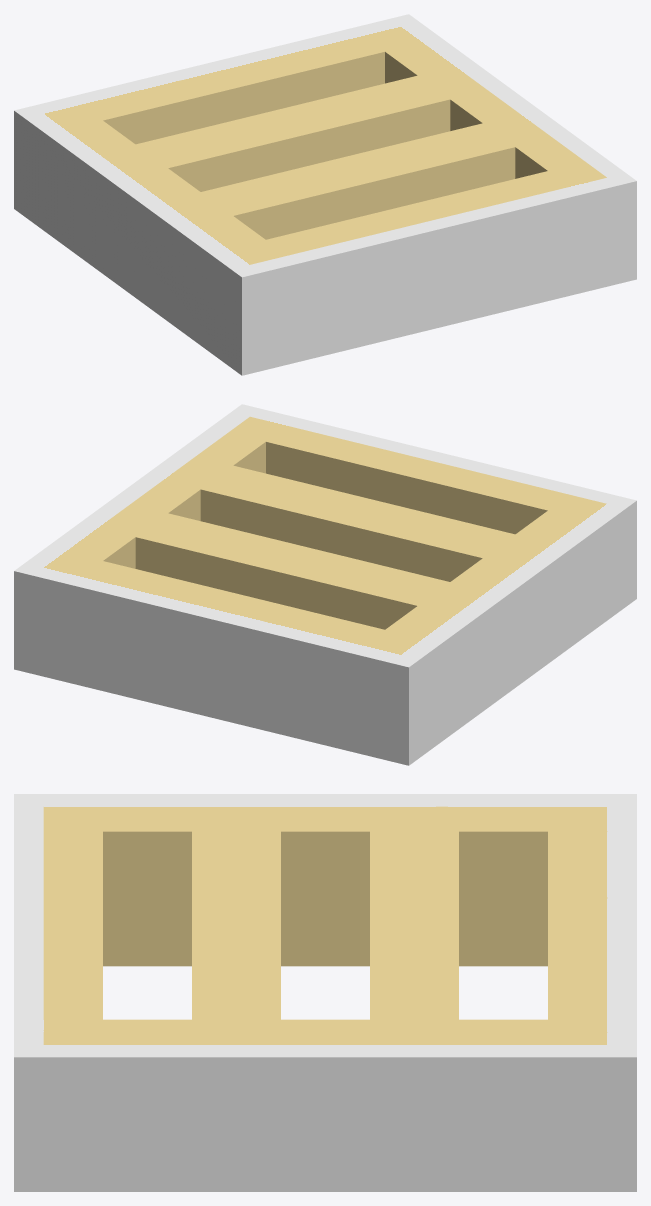
File: futur_step_2.dae
3 renders of one model, top to bottom at view 1: azimuth 30°, elevation 25°; view 2: azimuth 150°, elevation 25°; view 3: azimuth 270°, elevation 25°, orthographic. The views are drawn at different scales.
Parts seen in each view (by area): view 1: Box_18; view 2: Box_18; view 3: Box_18.
Part boxes in pixels (box(x1,y1,x2,y2)): Box_18: box(14, 14, 636, 375); Box_18: box(14, 404, 636, 765); Box_18: box(14, 794, 636, 1191).
Bounding box in the file's own units: 21 × 5 × 21.
1 material, 1 textured.
